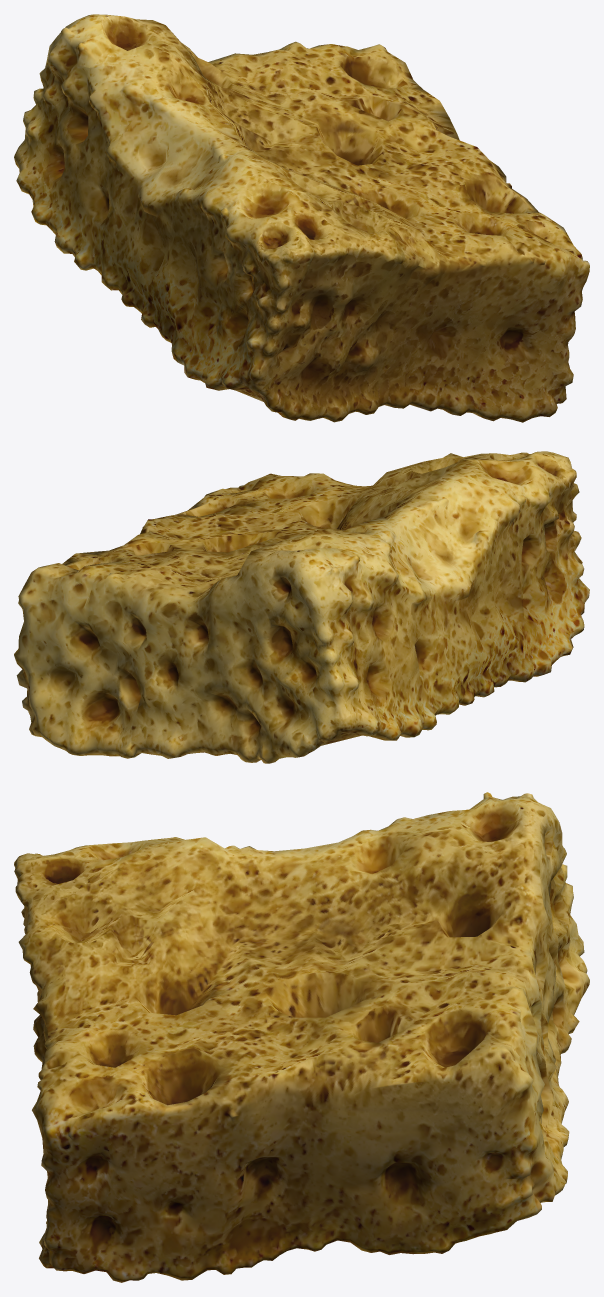
Rendered from artifact-sponge.glb.
3 views of the same model, one above another, from view 1: azimuth 30°, elevation 25°; view 2: azimuth 150°, elevation 25°; view 3: azimuth 270°, elevation 25° (orthographic). The views are drawn at different scales.
Parts seen in each view (by area): view 1: tripo_node_95a63e1d-e74e-4d48-8aba-08a78c8536bc; view 2: tripo_node_95a63e1d-e74e-4d48-8aba-08a78c8536bc; view 3: tripo_node_95a63e1d-e74e-4d48-8aba-08a78c8536bc.
Part boxes in pixels (x1,y1,x2,y2): tripo_node_95a63e1d-e74e-4d48-8aba-08a78c8536bc: (14,14,589,422); tripo_node_95a63e1d-e74e-4d48-8aba-08a78c8536bc: (14,451,589,763); tripo_node_95a63e1d-e74e-4d48-8aba-08a78c8536bc: (14,792,589,1282).
Bounding box in the file's own units: 0.8276 × 0.646 × 0.9995.
1 material, 1 textured.
